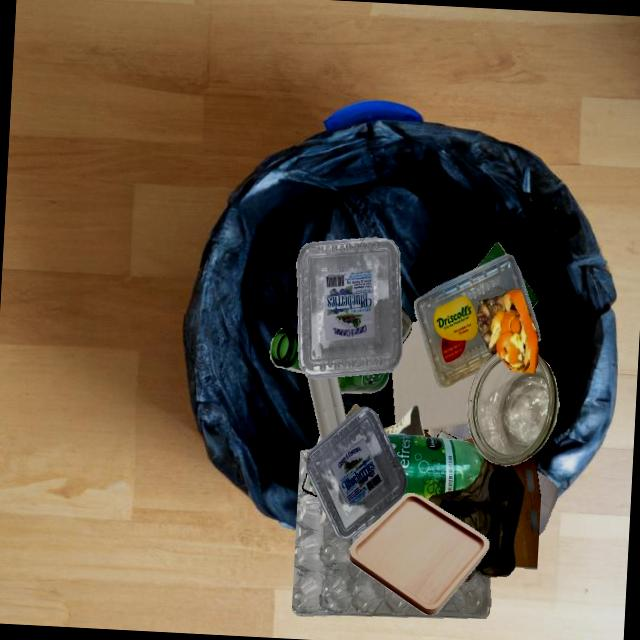biowaste: (478, 289, 538, 373)
cardboard: (426, 430, 524, 487), (512, 454, 541, 569), (384, 405, 425, 436)
combustible waste: (348, 493, 490, 615)
glass: (467, 353, 559, 466), (270, 329, 304, 374), (338, 372, 390, 393)
metal: (401, 307, 412, 343)
paper: (428, 457, 524, 582), (311, 414, 442, 488), (392, 322, 478, 430), (537, 471, 559, 535), (306, 444, 320, 520), (476, 243, 507, 268), (429, 423, 472, 440), (522, 276, 539, 308), (320, 509, 329, 526)
plastic: (292, 449, 491, 619), (414, 254, 540, 388), (296, 237, 402, 379), (306, 406, 407, 540), (386, 434, 484, 500), (307, 377, 346, 441), (352, 524, 373, 544)
